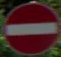No entry: (3, 3, 56, 49)
